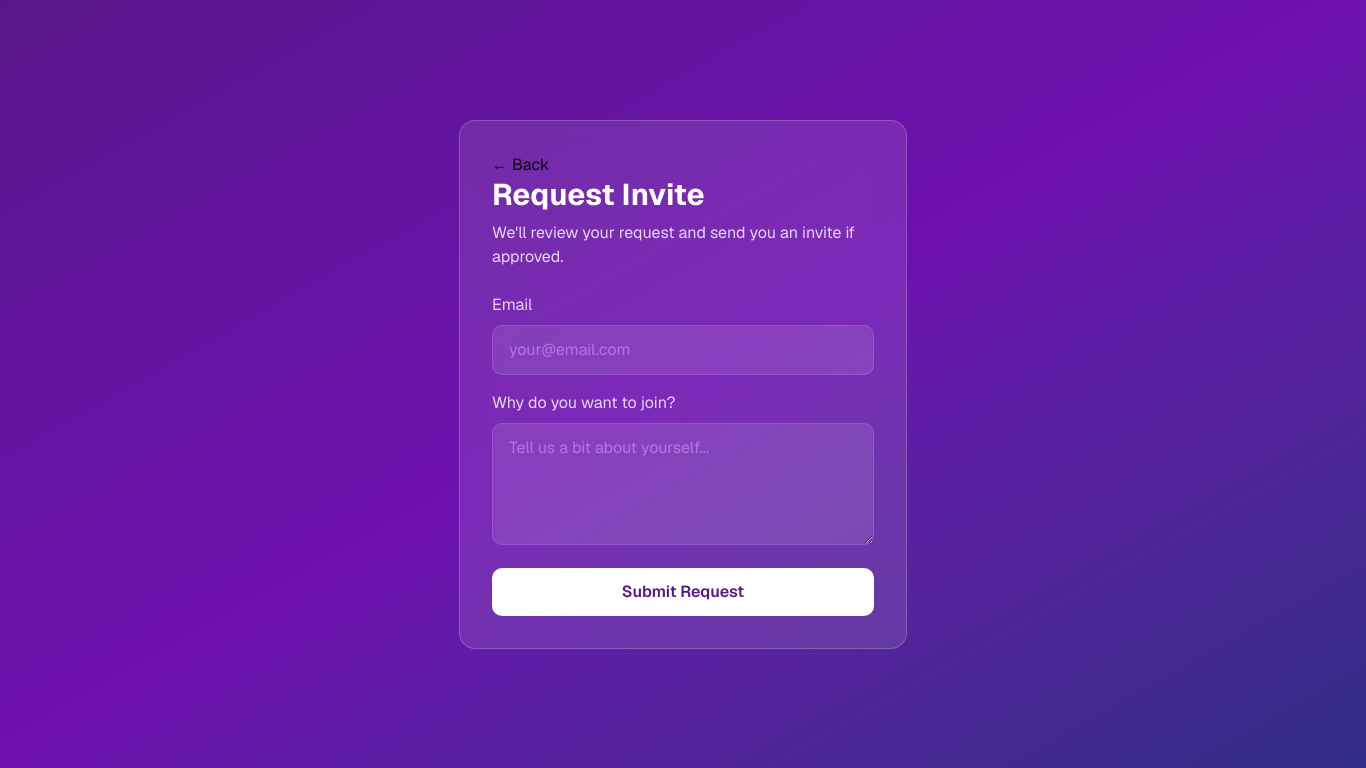
RequestInvitePage › shows generic error on failure
The image size is (1366, 768).
Type "test@example.com" into the field labelled "Email" at (683, 350), box [492,324,874,374]
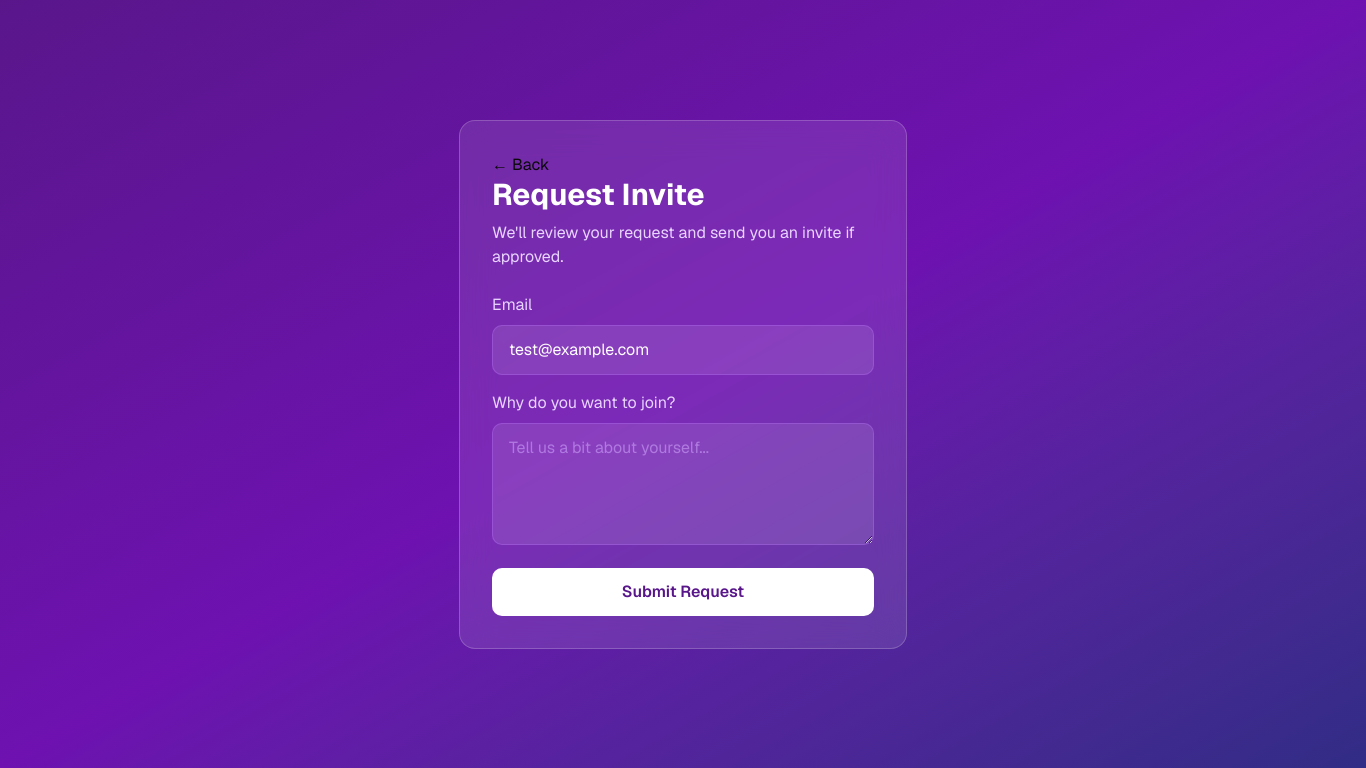
Click the button "Submit Request" at (683, 592), box [492,568,874,616]
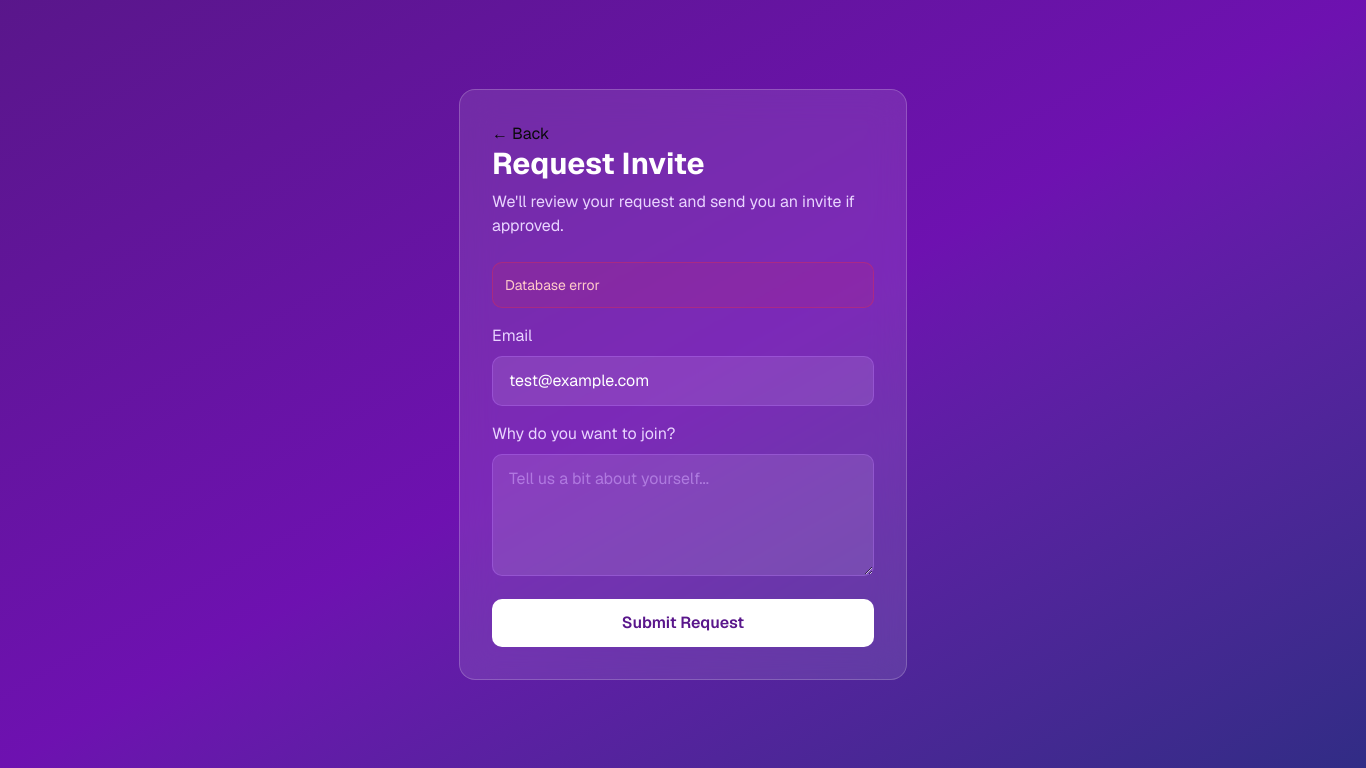
Check: the text "Database error" is shown, box [492,262,874,308]
